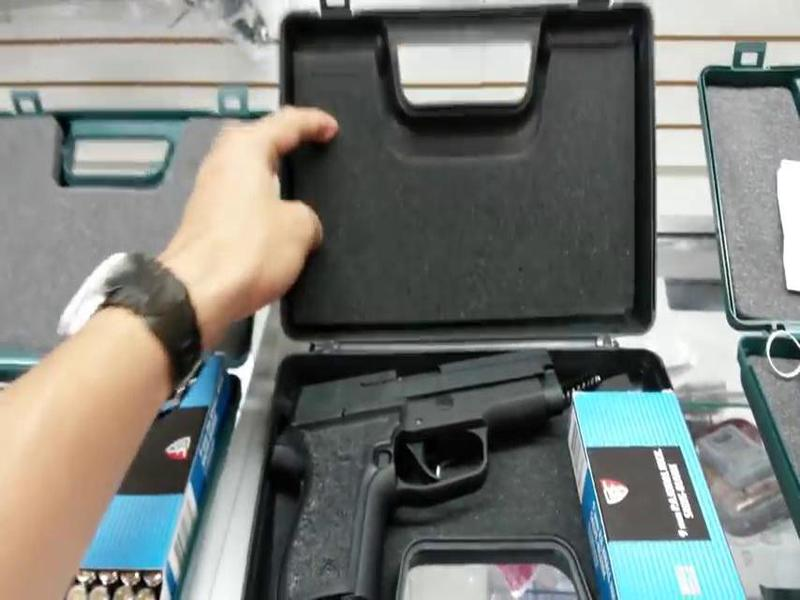Pistola: (265, 340, 592, 593)
